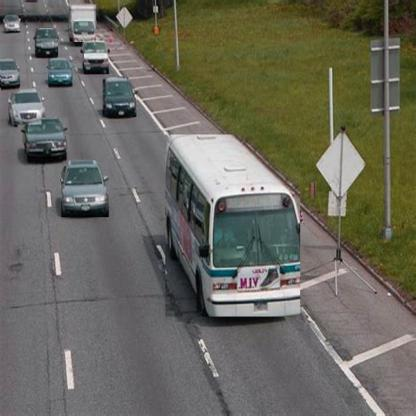bus: (166, 136, 301, 319)
car: (61, 161, 110, 219), (18, 119, 70, 168), (103, 80, 139, 119), (9, 90, 43, 127), (85, 42, 111, 76), (49, 56, 74, 91), (2, 56, 21, 95), (35, 29, 59, 58), (4, 17, 22, 33)
truck: (69, 5, 97, 44)
